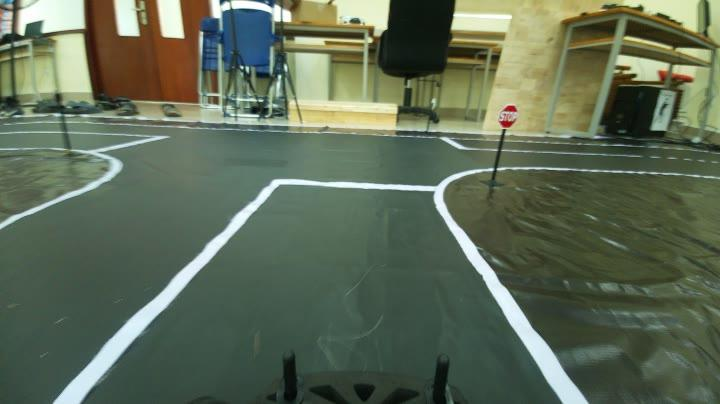stop: (494, 100, 523, 128)
